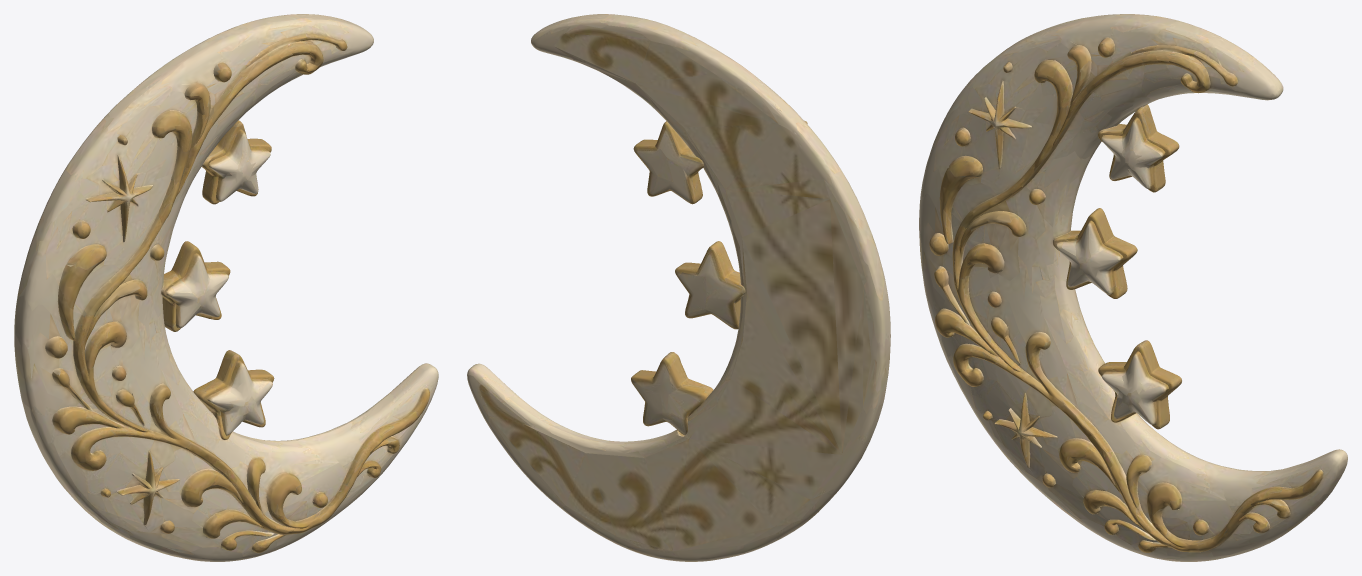
3 renders of one model, left to right at view 1: azimuth 30°, elevation 25°; view 2: azimuth 150°, elevation 25°; view 3: azimuth 330°, elevation 25°, orthographic.
Parts seen in each view (by area): view 1: output_unwrapped; view 2: output_unwrapped; view 3: output_unwrapped.
Boxes of the visible parts, x1,y1,x2,y2 form: output_unwrapped: (14, 14, 438, 561); output_unwrapped: (467, 14, 890, 561); output_unwrapped: (919, 14, 1347, 561).
Size of the model in its own units: 1.57 by 1.9 by 0.1736.
Materials: 1 (1 with a texture image).
